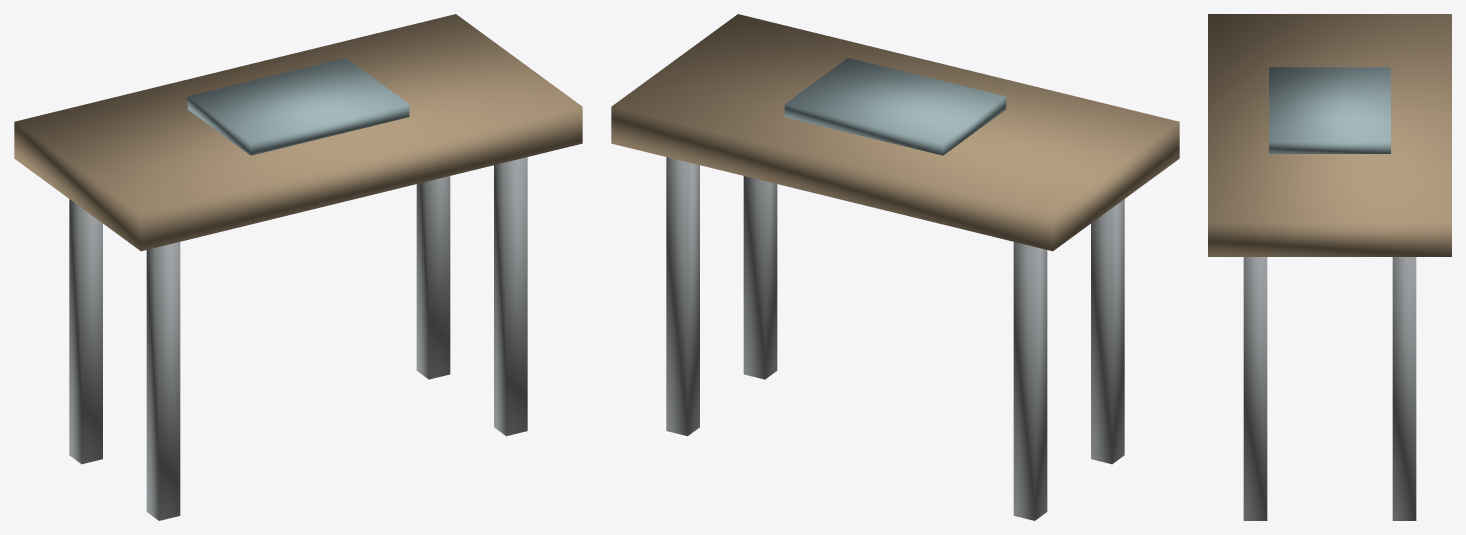
File: material_inspection_table__tall.glb
The picture shows the model from 3 angles, left to right: view 1: azimuth 30°, elevation 25°; view 2: azimuth 150°, elevation 25°; view 3: azimuth 270°, elevation 25°; orthographic projection. The views are drawn at different scales.
Parts seen in each view (by area): view 1: world; view 2: world; view 3: world.
Part boxes in pixels (bbox=[...]): world: bbox=[14, 14, 582, 520]; world: bbox=[611, 14, 1179, 520]; world: bbox=[1208, 14, 1451, 520].
Size of the model in its own units: 1.45 by 1.08 by 0.72.
